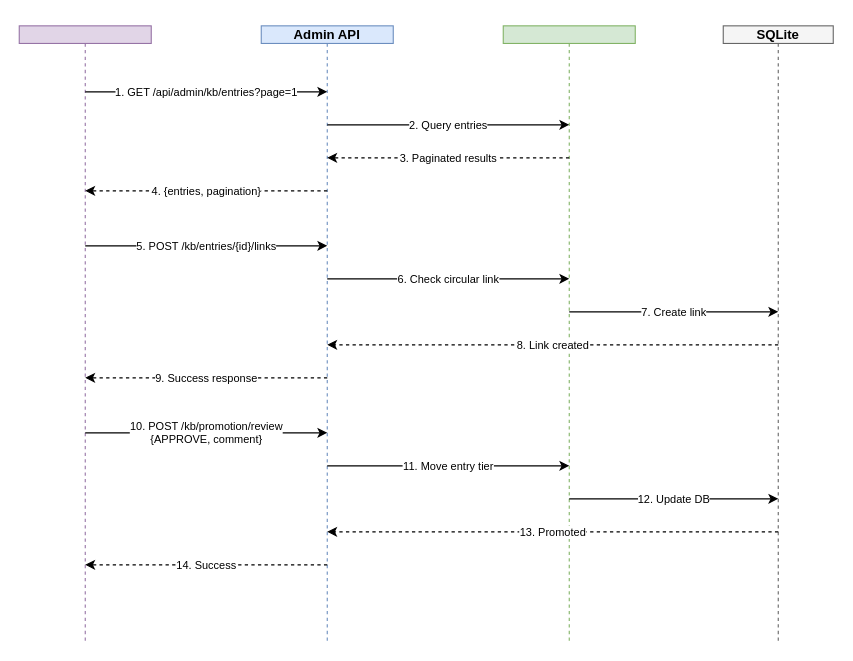
This 853x661 diagram has some shape labels left out. Each missing label, with the box of its shape:
Admin (SPA): (18, 25, 151, 642)
KB Engine (KSA-285): (502, 25, 635, 642)
